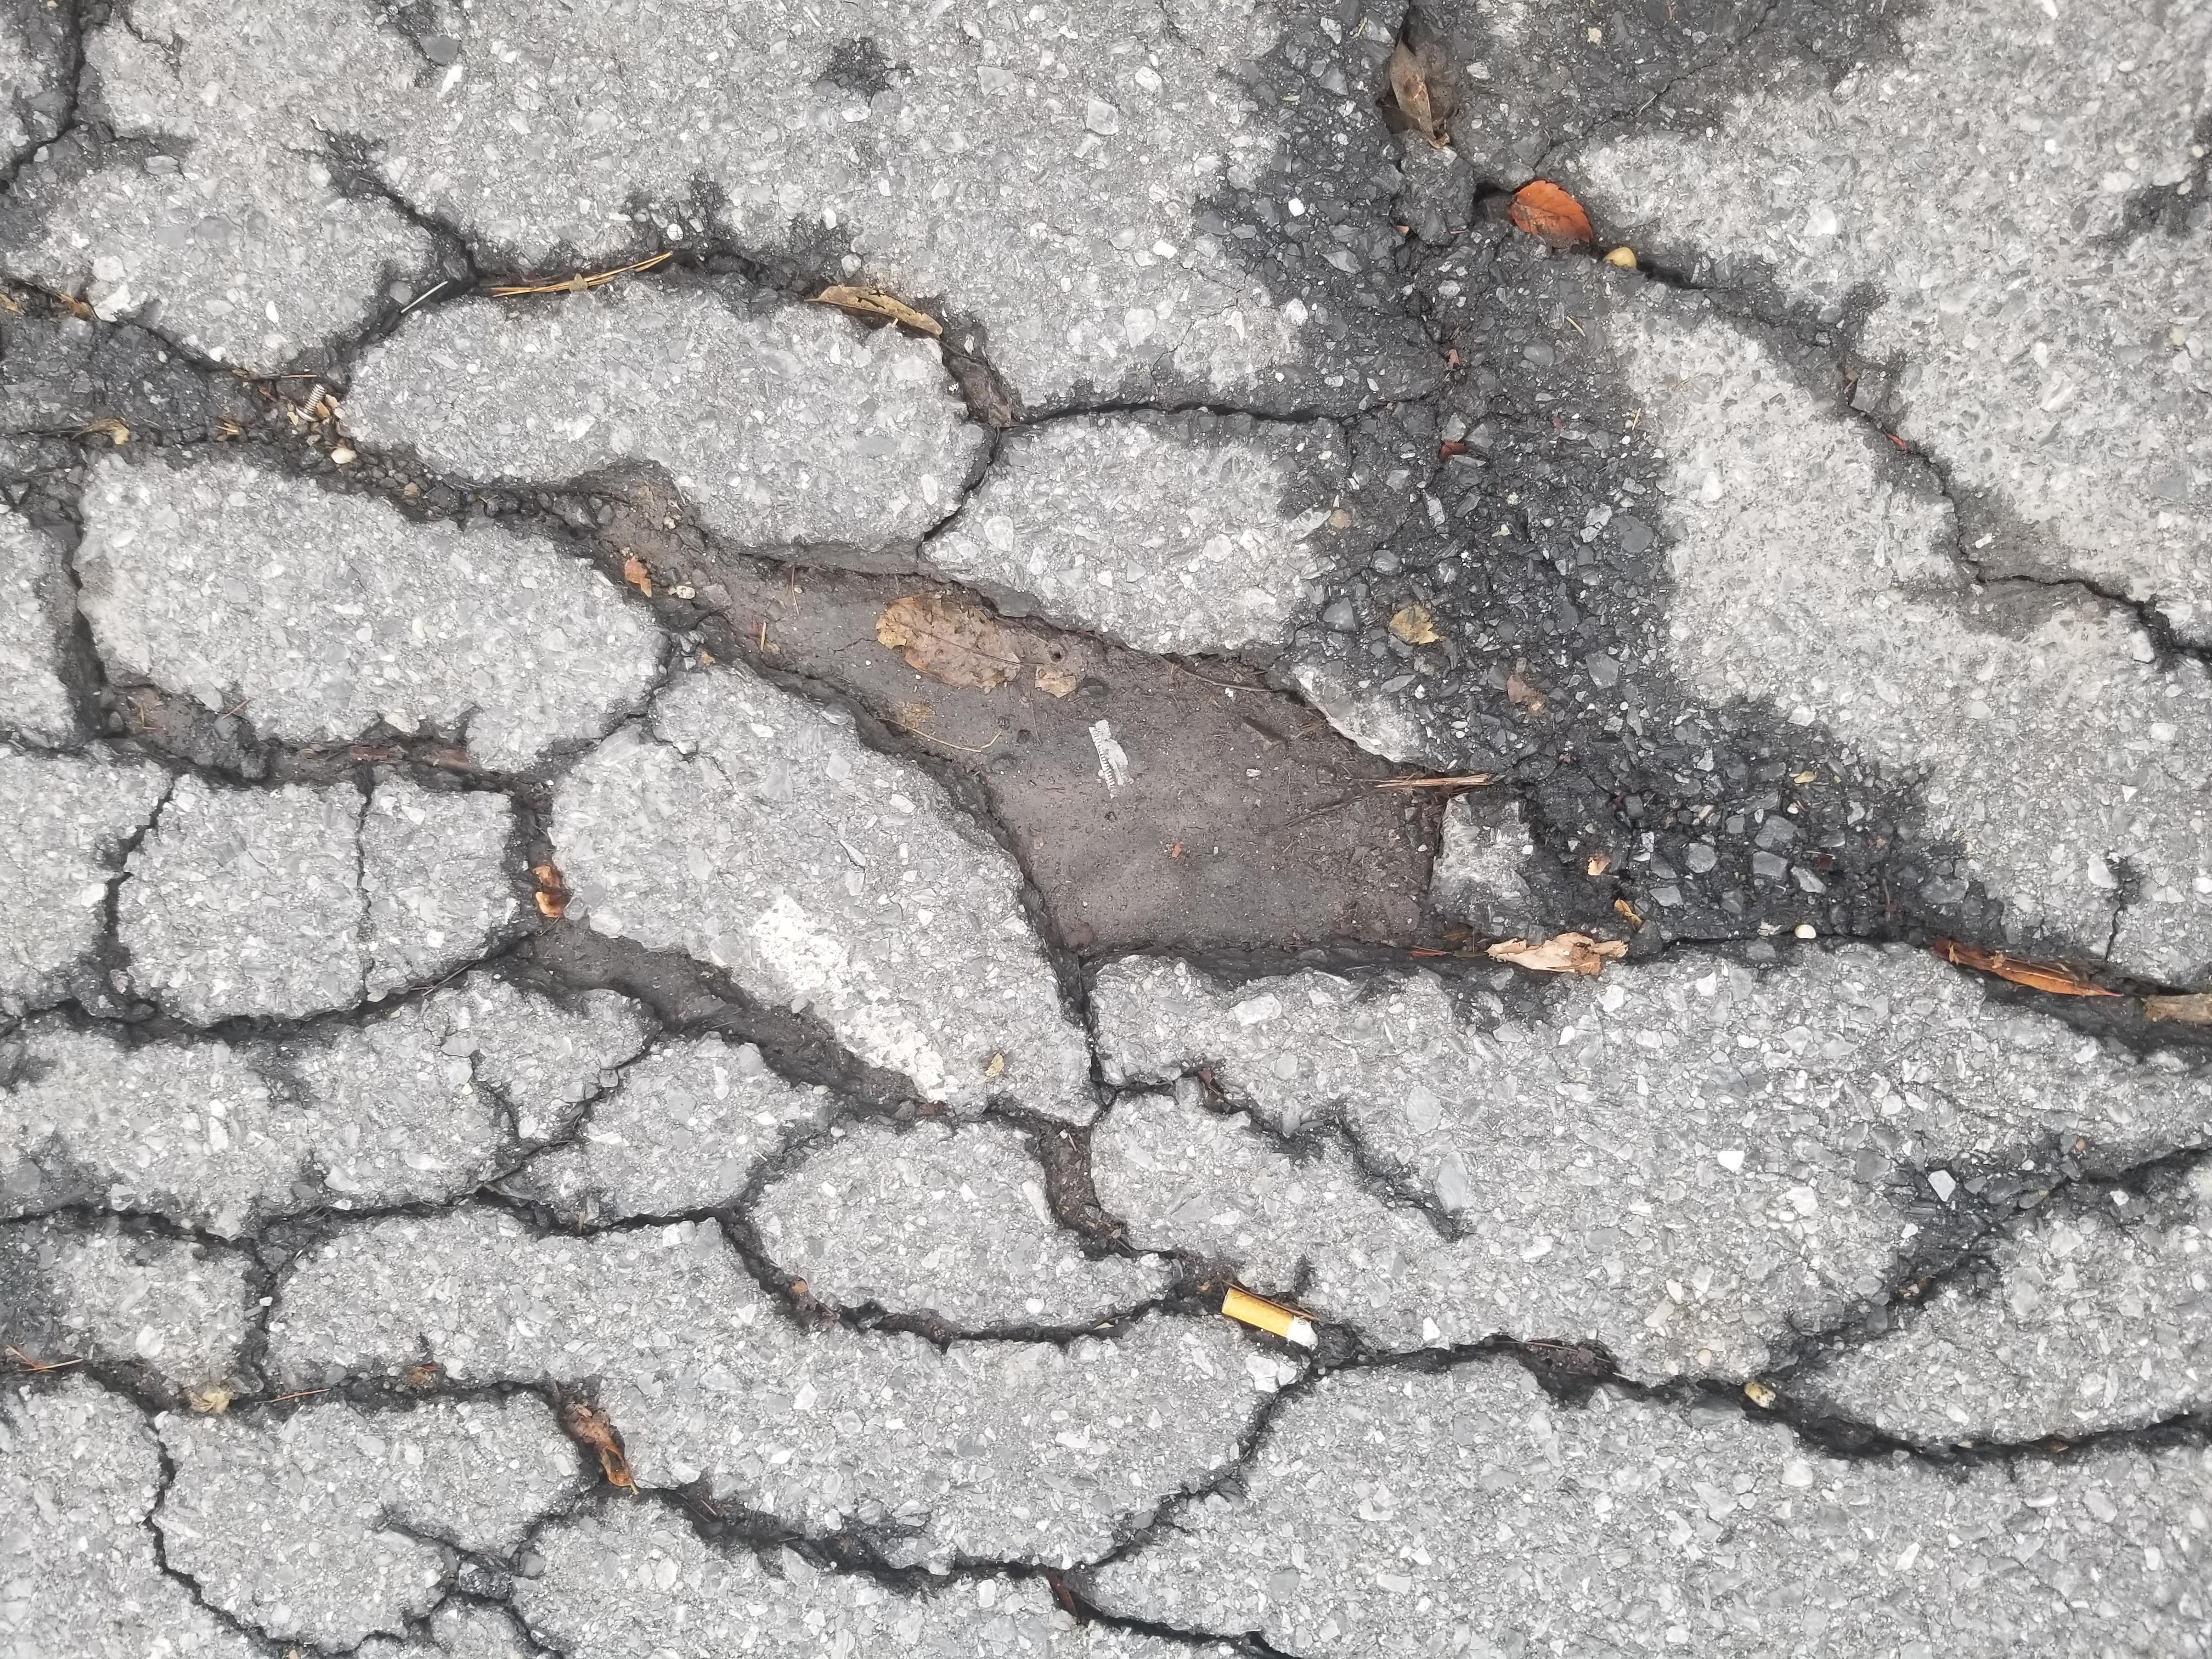alligator-crack: (0, 0, 988, 999)
crack: (1094, 33, 1350, 446), (1726, 263, 1919, 704), (1493, 1016, 2212, 1119), (1547, 699, 1737, 1007), (237, 1317, 388, 1659), (315, 976, 456, 1326), (1324, 1466, 1489, 1654)
pothole: (885, 638, 1357, 1108), (1200, 430, 1616, 767), (1507, 0, 1815, 260)
